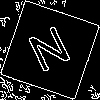N: (25, 25, 78, 82)
